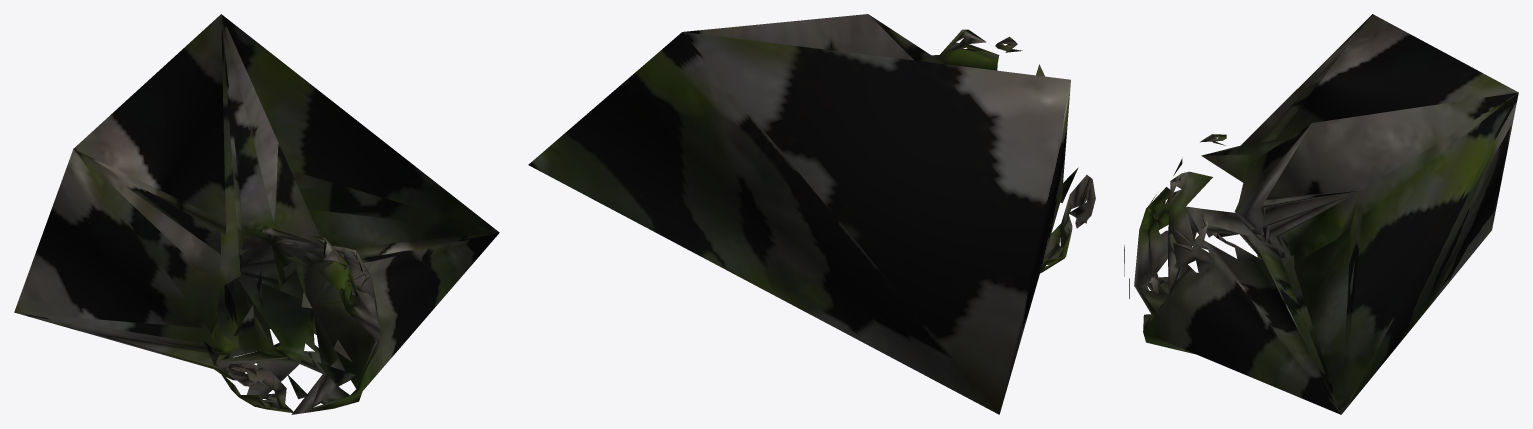
Rendered from rocks_lod1.glb.
3 views of the same model, side by side, from view 1: azimuth 30°, elevation 25°; view 2: azimuth 150°, elevation 25°; view 3: azimuth 270°, elevation 25° (orthographic). The views are drawn at different scales.
Parts seen in each view (by area): view 1: rocks_lod1; view 2: rocks_lod1; view 3: rocks_lod1.
Part boxes in pixels (x1,y1,x2,y2): rocks_lod1: (14, 14, 499, 414); rocks_lod1: (528, 14, 1095, 414); rocks_lod1: (1124, 14, 1518, 414).
Size of the model in its own units: 3.32 by 1.95 by 2.55.
1 material, 1 textured.
